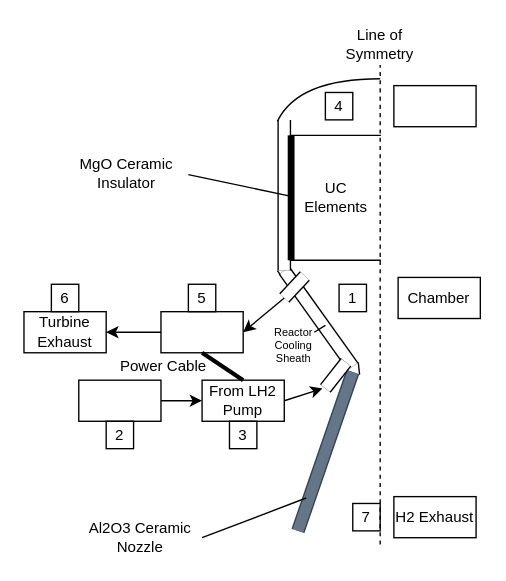
Some shapes in this 506 by 581 pixel diagram are drawn without their labels. The centre of each missing label's shape, as x and y in pixels:
From LH2 Tank: the point at 119,400
Reactor Plenum: the point at 434,105
To Onboard Turbine: the point at 201,331
